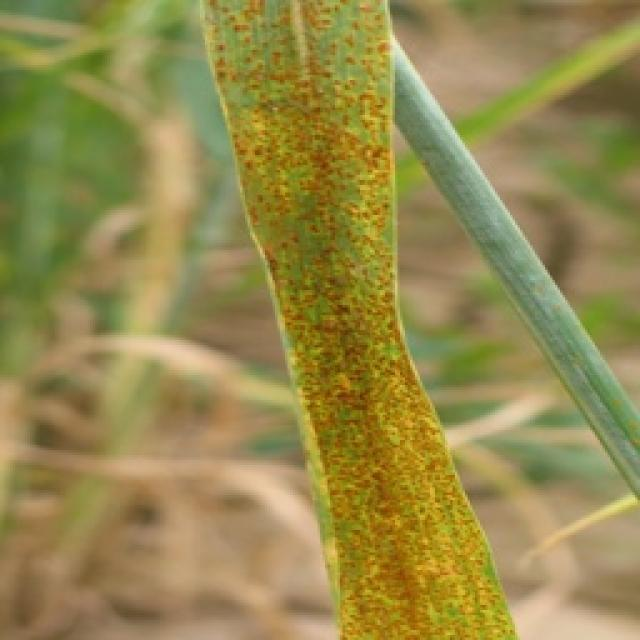Yellow Rust: (190, 0, 532, 638)
